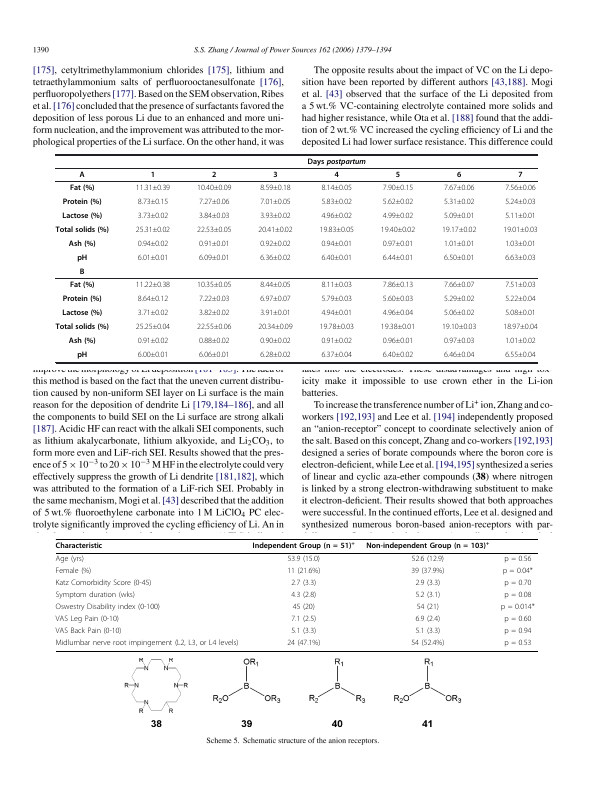borderless: (55, 153, 537, 362), (54, 538, 538, 651)
cell: (55, 639, 239, 648), (365, 540, 490, 551), (252, 540, 356, 551), (55, 603, 161, 613), (55, 579, 152, 589), (55, 591, 136, 601), (55, 627, 122, 636), (55, 615, 120, 624), (55, 225, 110, 235), (55, 322, 110, 332), (307, 157, 367, 166), (55, 542, 103, 551), (61, 211, 103, 221), (61, 308, 103, 318), (62, 197, 102, 207), (62, 294, 102, 304), (55, 567, 92, 577), (500, 603, 536, 613), (286, 555, 321, 565), (286, 567, 321, 577), (410, 567, 445, 577), (411, 555, 445, 565), (502, 567, 534, 577), (286, 639, 321, 648), (410, 639, 445, 648), (55, 555, 85, 565), (503, 555, 532, 565), (503, 579, 532, 589), (503, 591, 532, 601), (68, 239, 96, 249), (68, 336, 96, 346), (290, 579, 317, 589), (414, 579, 441, 589), (290, 591, 317, 601), (414, 591, 441, 601), (503, 615, 532, 624), (503, 627, 532, 636), (503, 639, 532, 648), (69, 183, 95, 193), (69, 280, 95, 290), (135, 184, 171, 191), (196, 184, 232, 191), (135, 226, 171, 233), (196, 226, 232, 233), (257, 226, 293, 233), (319, 226, 355, 233), (380, 226, 416, 233), (441, 226, 477, 233), (502, 226, 538, 233), (135, 281, 171, 288), (196, 281, 232, 288), (135, 323, 171, 330), (196, 323, 232, 330), (257, 323, 293, 330), (319, 323, 355, 330), (380, 323, 416, 330), (441, 323, 477, 330), (502, 323, 538, 330), (290, 615, 317, 624), (414, 615, 441, 624), (290, 627, 317, 636), (414, 627, 441, 636), (292, 603, 316, 613), (416, 603, 440, 613), (259, 184, 292, 191), (320, 184, 353, 191), (504, 184, 537, 191), (259, 198, 292, 205), (320, 198, 353, 205), (504, 198, 537, 205), (259, 212, 292, 219), (320, 212, 353, 219), (504, 212, 537, 219), (259, 240, 292, 247), (320, 240, 353, 247), (504, 240, 537, 247), (259, 254, 292, 261), (320, 254, 353, 261), (504, 254, 537, 261), (259, 281, 292, 288), (320, 281, 353, 288), (504, 281, 537, 288), (259, 295, 292, 302), (320, 295, 353, 302), (504, 295, 537, 302), (259, 309, 292, 316), (320, 309, 353, 316), (504, 309, 537, 316), (259, 337, 292, 344), (320, 337, 353, 344), (504, 337, 537, 344), (259, 351, 292, 358), (320, 351, 353, 358), (504, 351, 537, 358), (382, 184, 414, 191), (443, 184, 475, 191), (137, 198, 169, 205), (198, 198, 230, 205), (382, 198, 414, 205), (443, 198, 475, 205), (137, 212, 169, 219), (198, 212, 230, 219), (382, 212, 414, 219), (443, 212, 475, 219), (137, 240, 169, 247), (198, 240, 230, 247), (382, 240, 414, 247), (443, 240, 475, 247), (137, 254, 169, 261), (198, 254, 230, 261), (382, 254, 414, 261), (443, 254, 475, 261), (382, 281, 414, 288), (443, 281, 475, 288), (137, 295, 169, 302), (198, 295, 230, 302), (382, 295, 414, 302), (443, 295, 475, 302), (137, 309, 169, 316), (198, 309, 230, 316), (382, 309, 414, 316), (443, 309, 475, 316), (137, 337, 169, 344), (198, 337, 230, 344), (382, 337, 414, 344), (443, 337, 475, 344), (137, 351, 169, 358), (198, 351, 230, 358), (382, 351, 414, 358), (443, 351, 475, 358), (76, 253, 88, 263), (76, 350, 88, 360), (79, 170, 86, 180), (333, 170, 340, 180), (150, 170, 156, 180), (211, 170, 217, 180), (272, 170, 278, 180), (395, 170, 401, 180), (456, 170, 462, 180), (517, 170, 523, 180), (79, 267, 85, 277)
